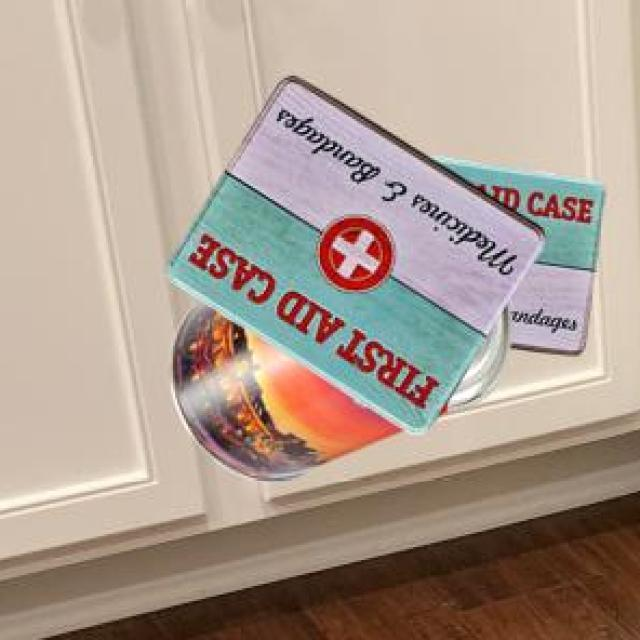logam: (165, 75, 542, 431), (168, 297, 509, 477), (428, 155, 602, 351)
